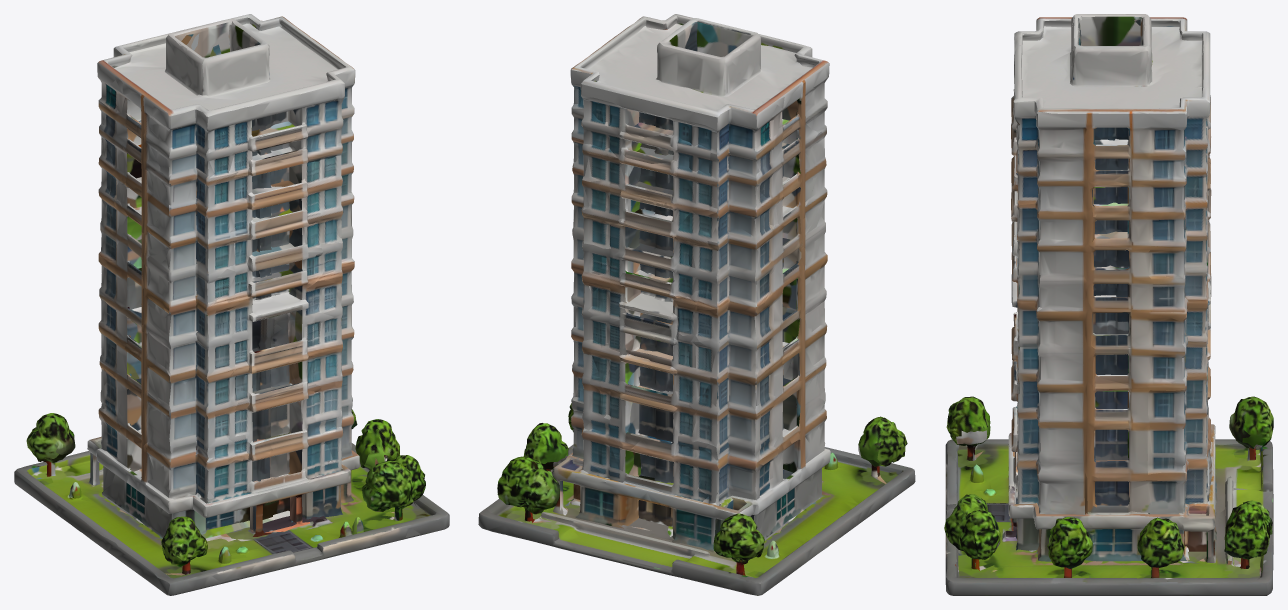
File: apartment_v2.glb
3 renders of one model, left to right at view 1: azimuth 30°, elevation 25°; view 2: azimuth 150°, elevation 25°; view 3: azimuth 270°, elevation 25°, orthographic. The views are drawn at different scales.
Parts seen in each view (by area): view 1: textured_mesh; view 2: textured_mesh; view 3: textured_mesh.
Part boxes in pixels (bbox=[...]): textured_mesh: bbox=[14, 14, 449, 595]; textured_mesh: bbox=[478, 14, 915, 595]; textured_mesh: bbox=[944, 14, 1273, 595].
Bounding box in the file's own units: 1.27 × 1.99 × 1.22.
Materials: 1 (1 with a texture image).
